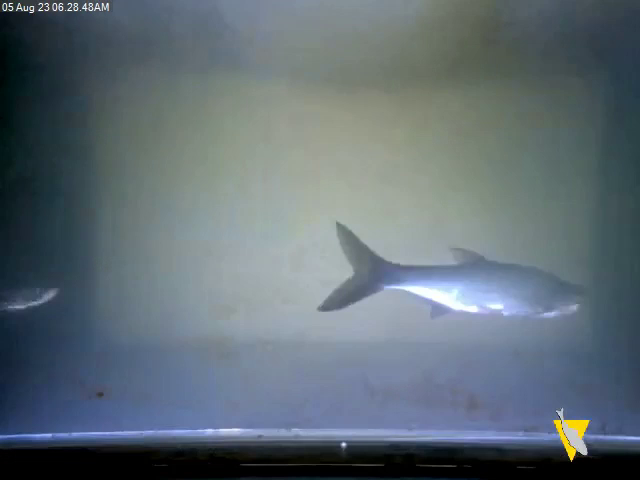\uAC15\uC900\uCE58: (316, 221, 593, 318)
